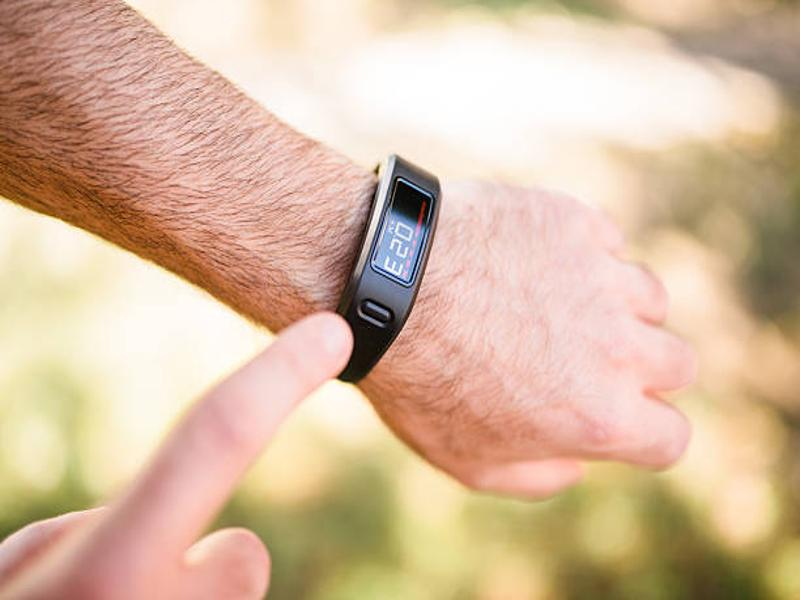watch: (321, 151, 449, 390)
